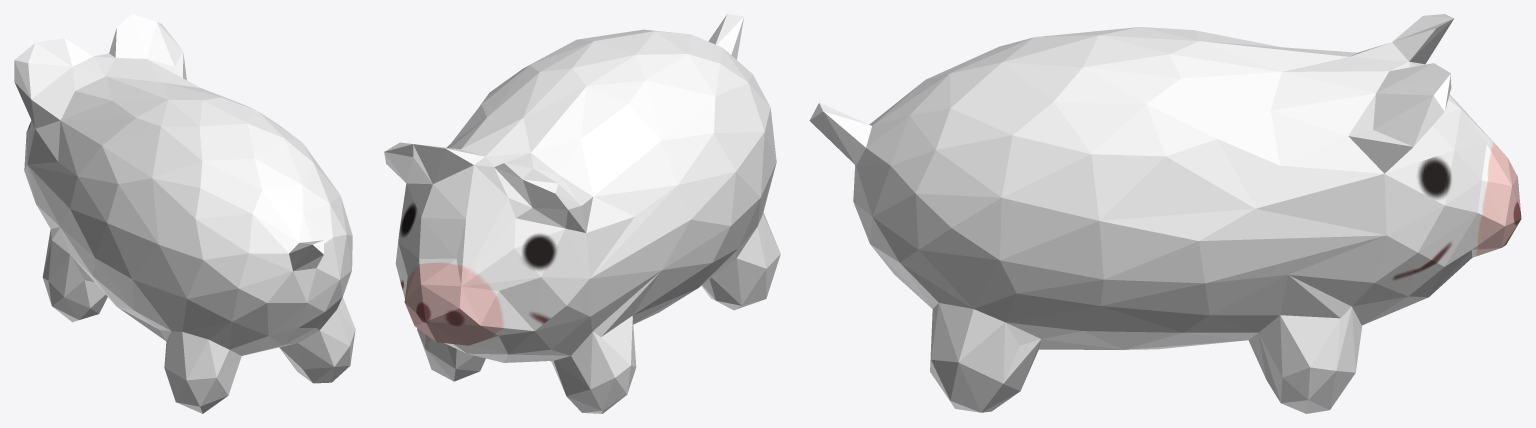
Rendered from animal_pig_blob.obj.
The picture shows the model from 3 angles, left to right: view 1: azimuth 30°, elevation 25°; view 2: azimuth 150°, elevation 25°; view 3: azimuth 270°, elevation 25°; orthographic projection. The views are drawn at different scales.
Parts seen in each view (by area): view 1: animal_pig_blob; view 2: animal_pig_blob; view 3: animal_pig_blob.
Boxes of the visible parts, bbox=[...] form: animal_pig_blob: bbox=[14, 14, 355, 413]; animal_pig_blob: bbox=[384, 14, 780, 413]; animal_pig_blob: bbox=[809, 14, 1521, 413].
Size of the model in its own units: 0.5939 by 0.6358 by 1.24.
